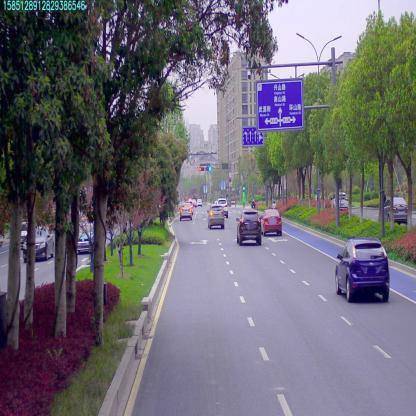traffic-light: (198, 165, 206, 172), (205, 165, 211, 171)
